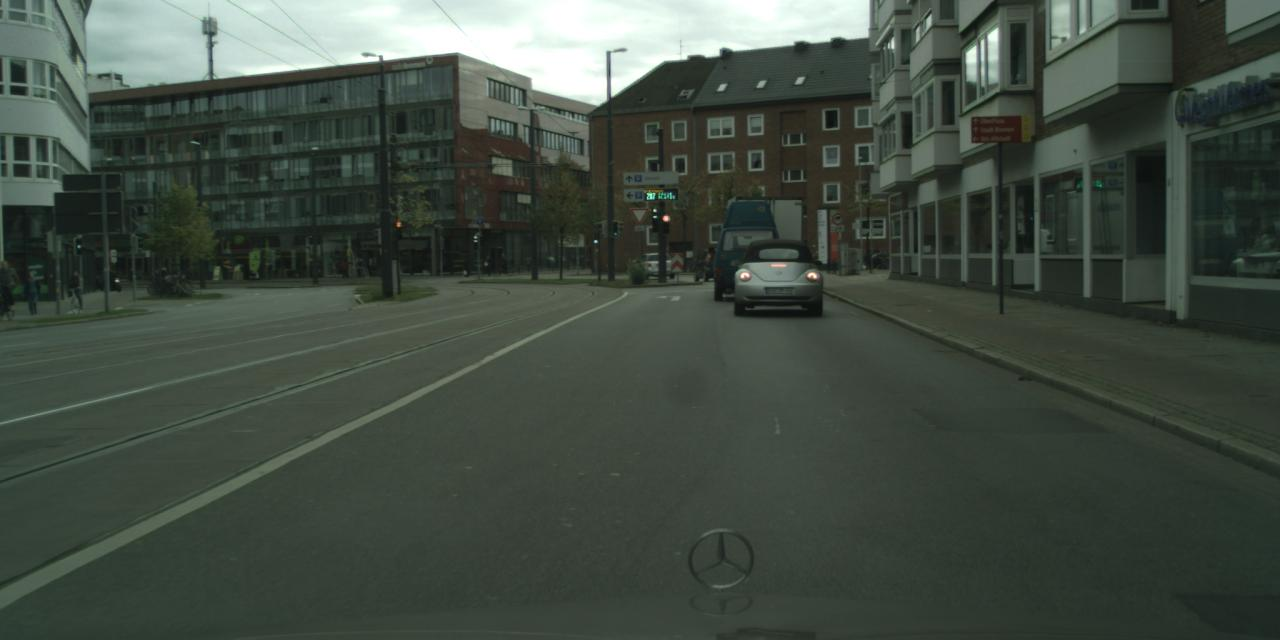ped: (22, 271, 40, 314), (0, 261, 14, 311), (68, 272, 82, 304), (482, 256, 490, 274), (341, 259, 349, 276), (500, 252, 506, 270), (525, 255, 531, 271), (462, 260, 468, 276)
